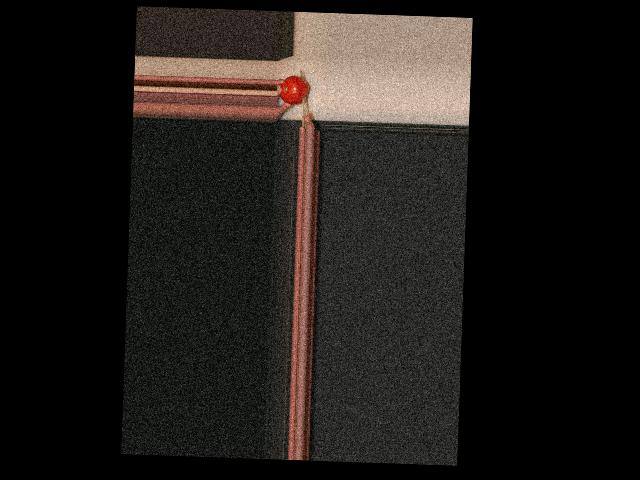tomato: (279, 74, 309, 104)
